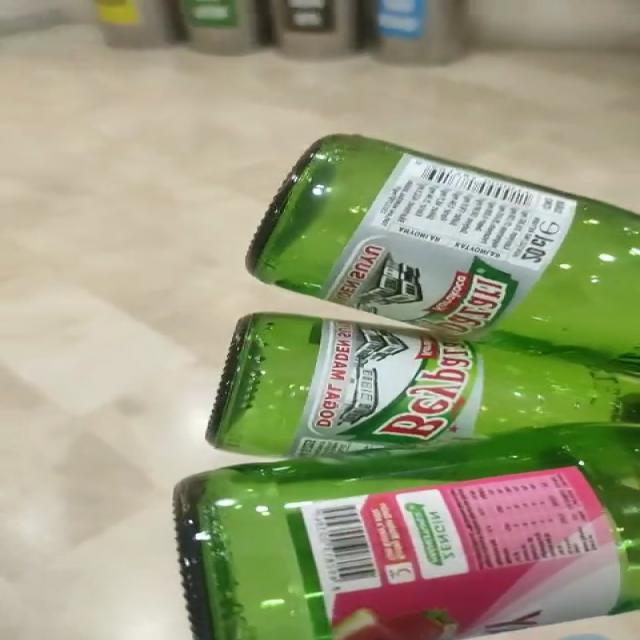glass: (177, 135, 640, 640)
